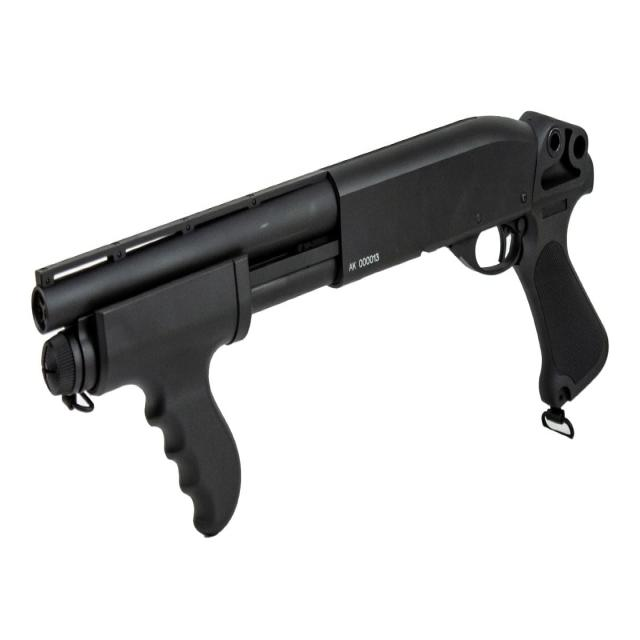ShotGun: (30, 112, 611, 540)
